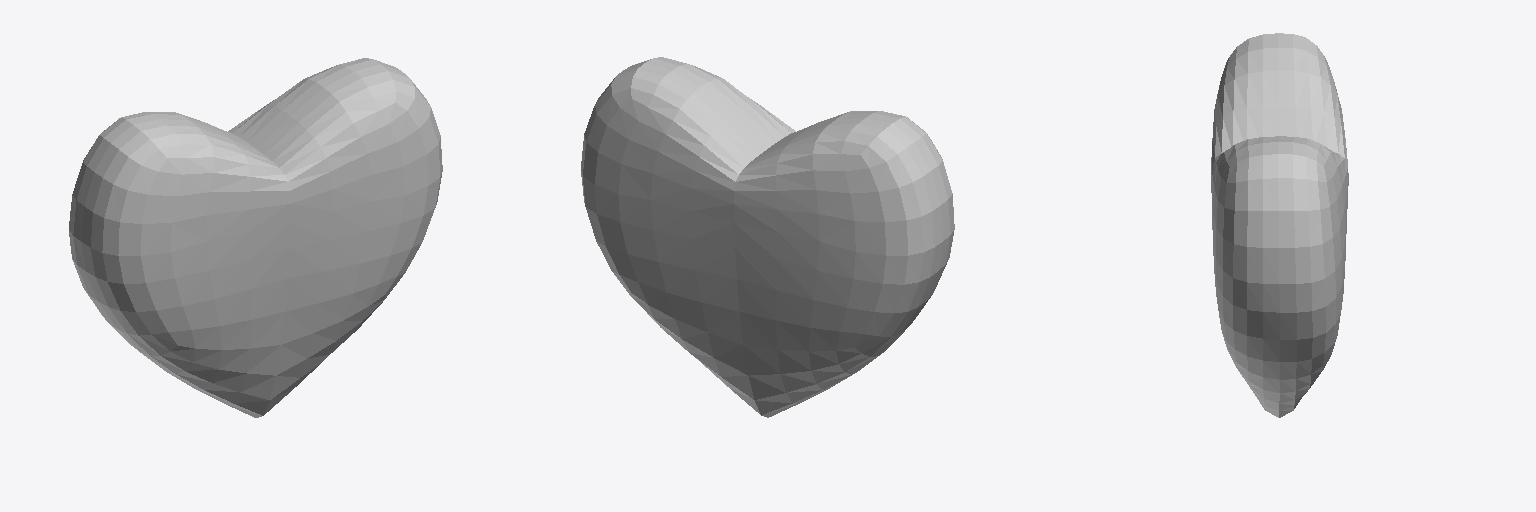
File: heartObj.obj
The picture shows the model from 3 angles: view 1: azimuth 30°, elevation 25°; view 2: azimuth 150°, elevation 25°; view 3: azimuth 270°, elevation 25°; orthographic projection.
Parts seen in each view (by area): view 1: Cube.001; view 2: Cube.001; view 3: Cube.001.
Boxes of the visible parts, x1,y1,x2,y2 form: Cube.001: [69, 58, 442, 417]; Cube.001: [581, 57, 954, 417]; Cube.001: [1211, 33, 1348, 417].
Bounding box in the file's own units: 2.39 × 2.12 × 0.813.